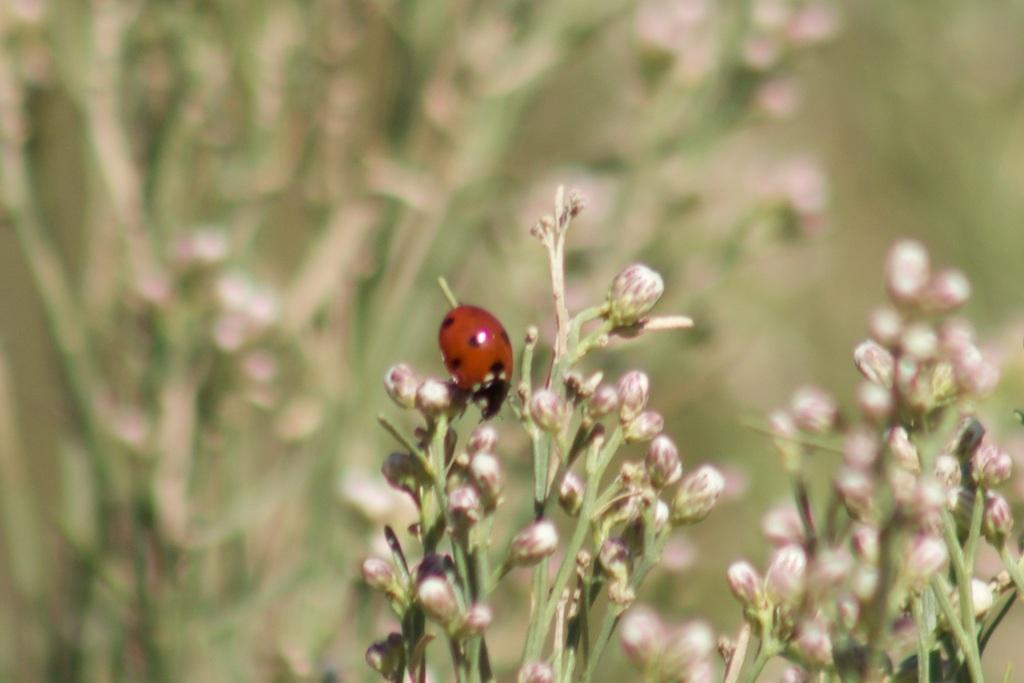ladybug: (437, 303, 517, 421)
